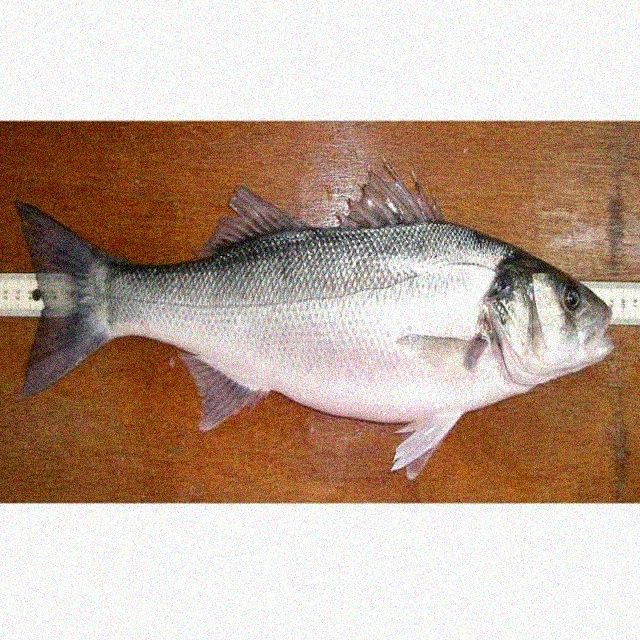Healthy Fish: (5, 168, 621, 481)
